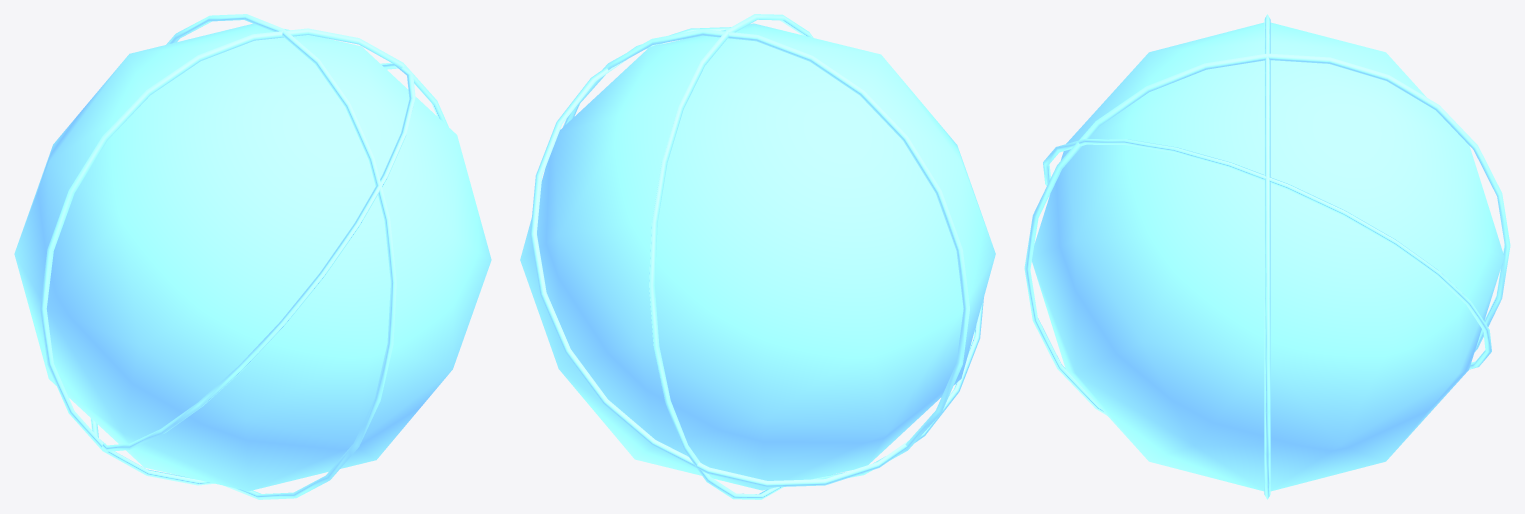
The model's file is fx_elite_shield.glb.
3 renders of one model, left to right at view 1: azimuth 30°, elevation 25°; view 2: azimuth 150°, elevation 25°; view 3: azimuth 270°, elevation 25°, orthographic.
Parts seen in each view (by area): view 1: shieldBubble_eliteBubble, shieldBubble_eliteBand; view 2: shieldBubble_eliteBubble, shieldBubble_eliteBand; view 3: shieldBubble_eliteBubble, shieldBubble_eliteBand.
Boxes of the visible parts, x1=… form: shieldBubble_eliteBubble: x1=14, y1=23, x2=491, y2=491; shieldBubble_eliteBand: x1=40, y1=14, x2=448, y2=499; shieldBubble_eliteBubble: x1=520, y1=23, x2=995, y2=490; shieldBubble_eliteBand: x1=530, y1=14, x2=983, y2=499; shieldBubble_eliteBubble: x1=1032, y1=22, x2=1504, y2=491; shieldBubble_eliteBand: x1=1024, y1=14, x2=1510, y2=499.
Bounding box in the file's own units: 1.54 × 1.54 × 1.54.
